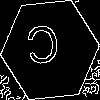C: (25, 24, 61, 73)
